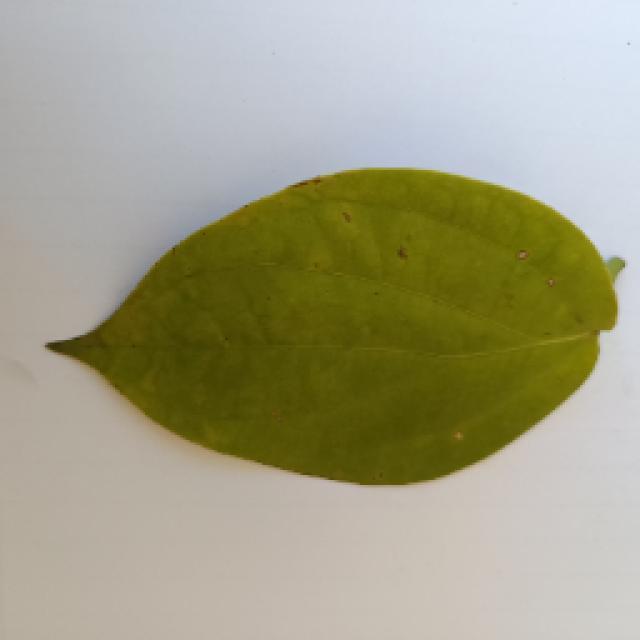slow-decline: (30, 152, 628, 488)
